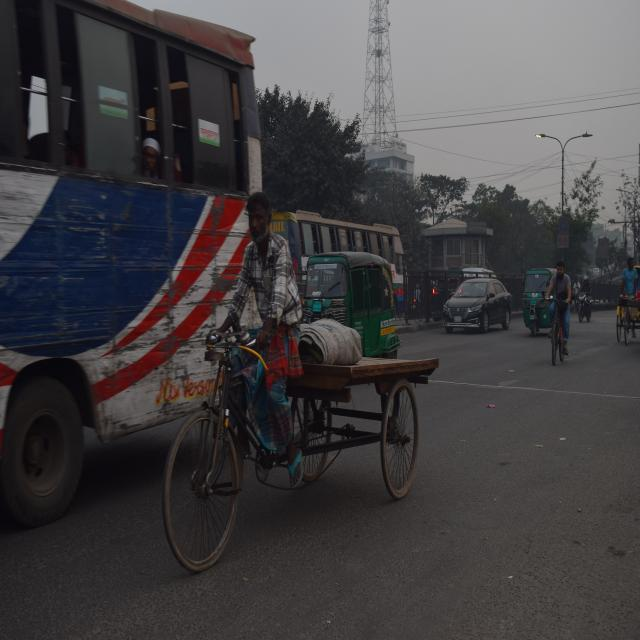bus: (0, 0, 259, 510)
car: (444, 269, 511, 335)
motorbike: (569, 287, 596, 331)
